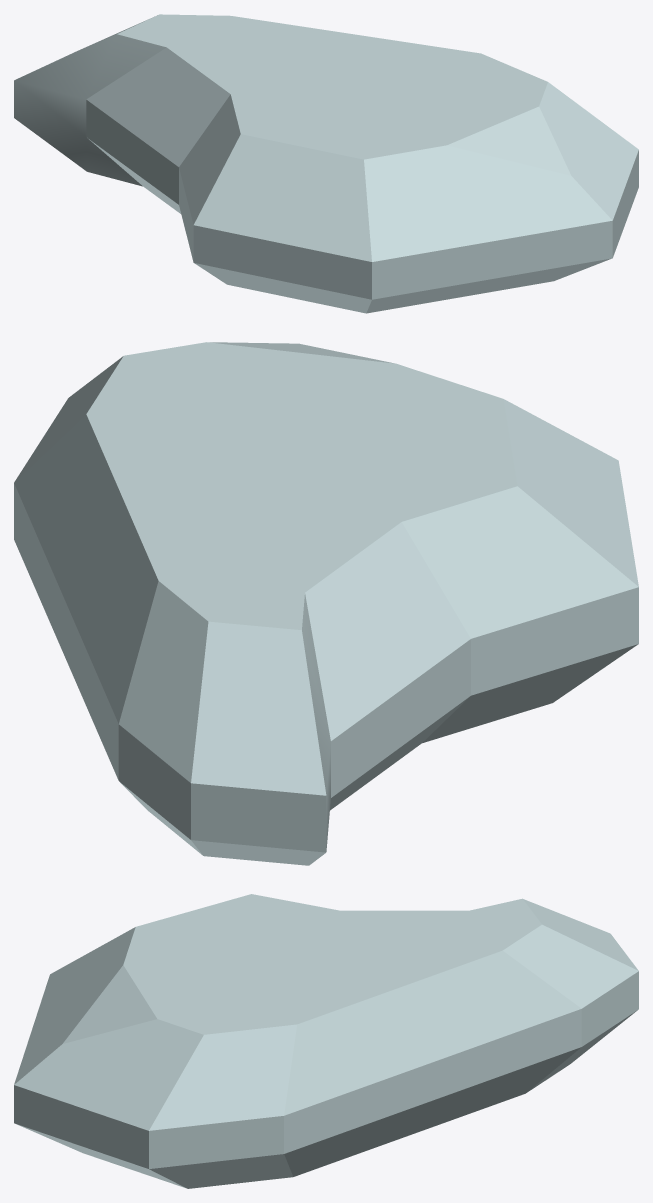
File: stone_largeA.gltf
3 renders of one model, top to bottom at view 1: azimuth 30°, elevation 25°; view 2: azimuth 150°, elevation 25°; view 3: azimuth 270°, elevation 25°, orthographic. The views are drawn at different scales.
Visible parts, largest first — view 1: stone_largeA; view 2: stone_largeA; view 3: stone_largeA.
Part boxes in pixels (x1,y1,x2,y2): stone_largeA: (14,14,638,313); stone_largeA: (14,342,638,865); stone_largeA: (14,894,638,1188).
Size of the model in its own units: 0.7849 by 0.2598 by 1.02.
